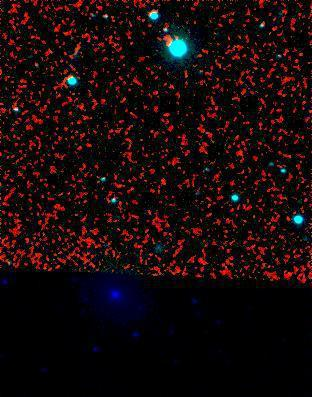star: (162, 34, 192, 64)
